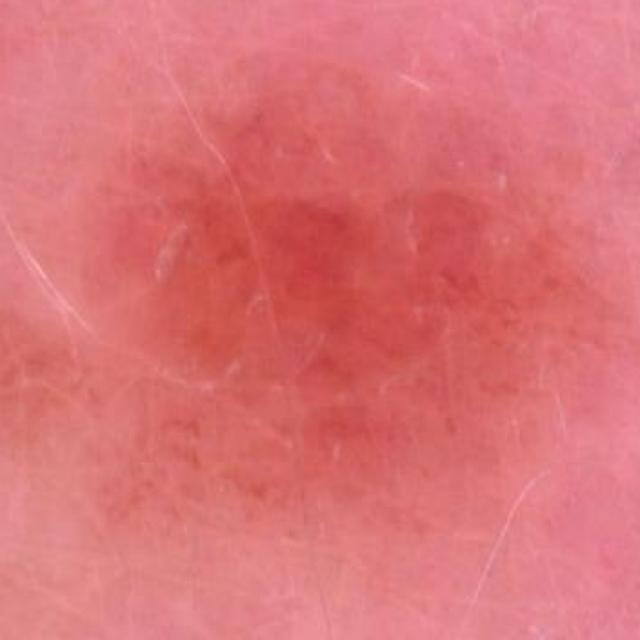NV: (0, 83, 638, 562)
